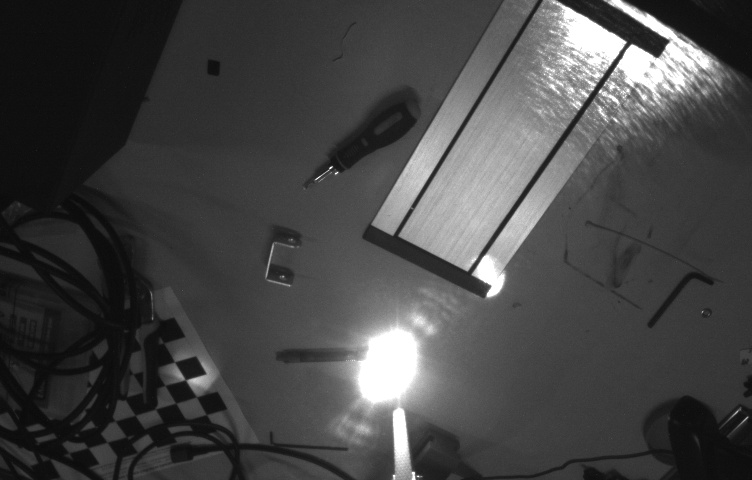Object ballpoint pen - Material rubber - Color red - Pdfname Tg2wygrqE5uZ: (352, 348, 419, 386)
